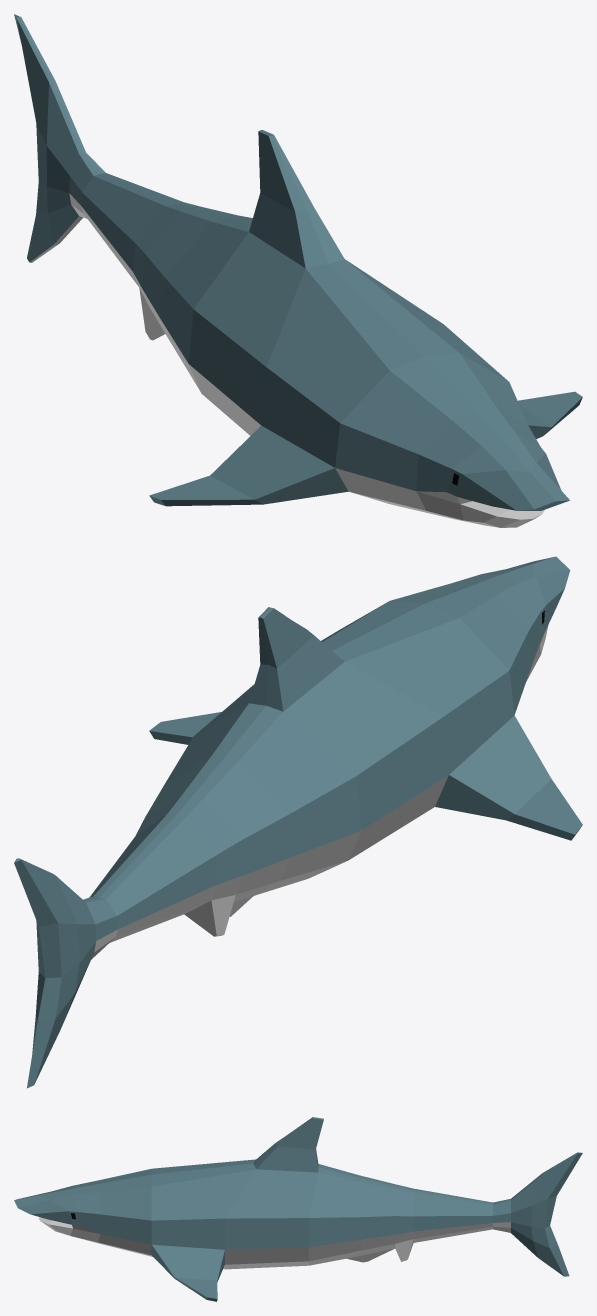
File: shark_01.fbx
The picture shows the model from 3 angles, top to bottom: view 1: azimuth 30°, elevation 25°; view 2: azimuth 150°, elevation 25°; view 3: azimuth 270°, elevation 25°; orthographic projection. The views are drawn at different scales.
Parts seen in each view (by area): view 1: shark_01; view 2: shark_01; view 3: shark_01.
Part boxes in pixels (x1,y1,x2,y2): shark_01: (14,14,582,527); shark_01: (14,556,582,1088); shark_01: (14,1117,582,1301).
Bounding box in the file's own units: 401 × 273 × 885.
